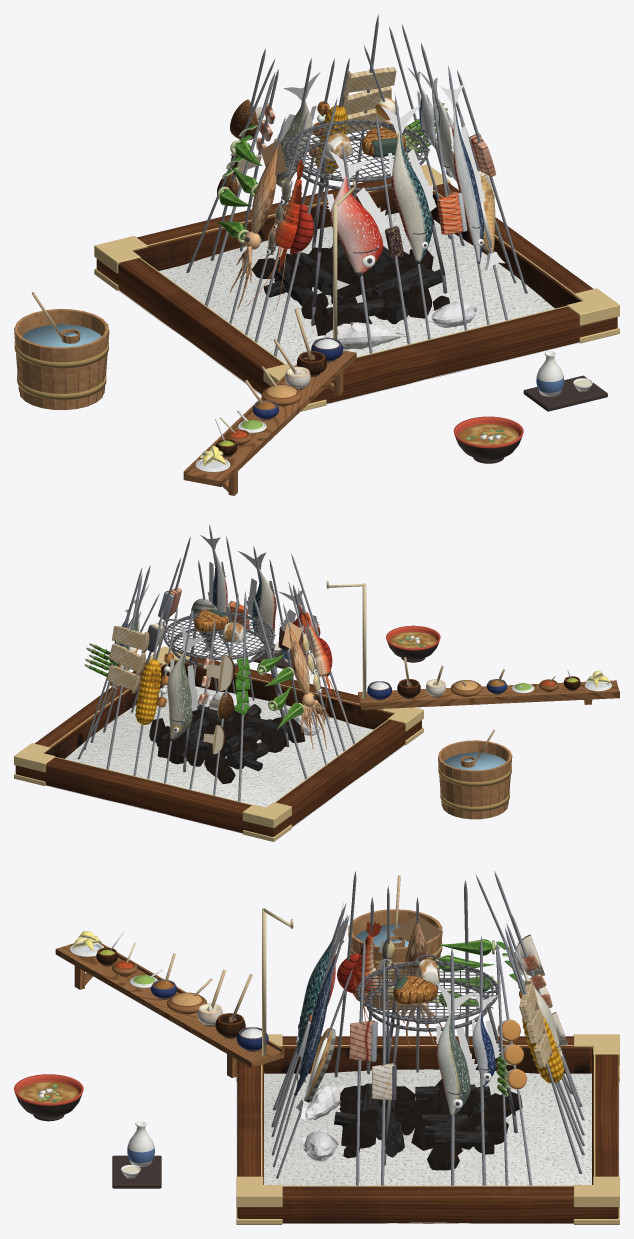
File: grilledfish.glb
The picture shows the model from 3 angles, top to bottom: view 1: azimuth 30°, elevation 25°; view 2: azimuth 150°, elevation 25°; view 3: azimuth 270°, elevation 25°; orthographic projection. The views are drawn at different scales.
Visible parts, largest first — view 1: Robuchi, FirePit, WaterBucket, BinchotanHeap, GrillNet, Charcoal, Nodoguro, SeasoningBox, Mackerel, Saury, KingOyster, Squid (+25 smaller); view 2: Robuchi, FirePit, WaterBucket, SeasoningBox, BinchotanHeap, Charcoal, GrillNet, ExtraFish, KingOyster, Squid, GrilledShiitake, Mackerel (+21 smaller); view 3: Robuchi, FirePit, BinchotanHeap, GrillNet, Charcoal, SeasoningBox, Aji, WaterBucket, Sake, Iwashi, KingOyster, Squid (+26 smaller).
Part boxes in pixels (left/top/right/bottom): Robuchi: left=94, top=164, right=619, bottom=411; FirePit: left=118, top=212, right=579, bottom=404; WaterBucket: left=14, top=309, right=109, bottom=409; BinchotanHeap: left=264, top=243, right=442, bottom=324; GrillNet: left=285, top=120, right=447, bottom=325; Charcoal: left=252, top=237, right=449, bottom=336; Nodoguro: left=327, top=145, right=388, bottom=353; SeasoningBox: left=183, top=350, right=356, bottom=495; Mackerel: left=381, top=94, right=436, bottom=339; Saury: left=440, top=66, right=489, bottom=324; KingOyster: left=341, top=14, right=396, bottom=198; Squid: left=229, top=117, right=286, bottom=323; Robuchi: left=14, top=646, right=423, bottom=841; FirePit: left=46, top=685, right=405, bottom=833; WaterBucket: left=438, top=740, right=512, bottom=819; SeasoningBox: left=358, top=680, right=619, bottom=709; BinchotanHeap: left=156, top=704, right=290, bottom=771; Charcoal: left=149, top=706, right=305, bottom=783; GrillNet: left=162, top=612, right=289, bottom=772; ExtraFish: left=164, top=608, right=206, bottom=783; KingOyster: left=106, top=574, right=149, bottom=769; Squid: left=282, top=603, right=329, bottom=764; GrilledShiitake: left=203, top=593, right=238, bottom=795; Mackerel: left=238, top=546, right=280, bottom=695; Robuchi: left=236, top=1034, right=619, bottom=1224; FirePit: left=236, top=1069, right=619, bottom=1223; BinchotanHeap: left=334, top=1083, right=503, bottom=1157; GrillNet: left=357, top=954, right=517, bottom=1165; Charcoal: left=339, top=1079, right=522, bottom=1170; SeasoningBox: left=55, top=943, right=284, bottom=1077; Aji: left=435, top=947, right=477, bottom=1185; WaterBucket: left=348, top=909, right=442, bottom=1008; Sake: left=112, top=1121, right=161, bottom=1188; Iwashi: left=471, top=936, right=501, bottom=1185; KingOyster: left=505, top=927, right=582, bottom=1173; Squid: left=392, top=897, right=443, bottom=1072.
Bounding box in the file's own units: 2.92 × 1.37 × 2.96.
Materials: 113 (69 with a texture image).
